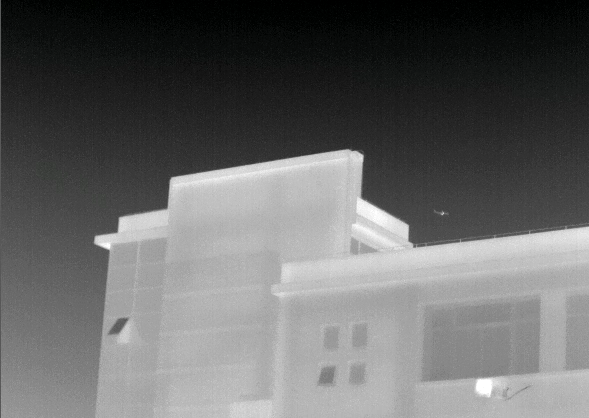dim target: (432, 207, 449, 219)
